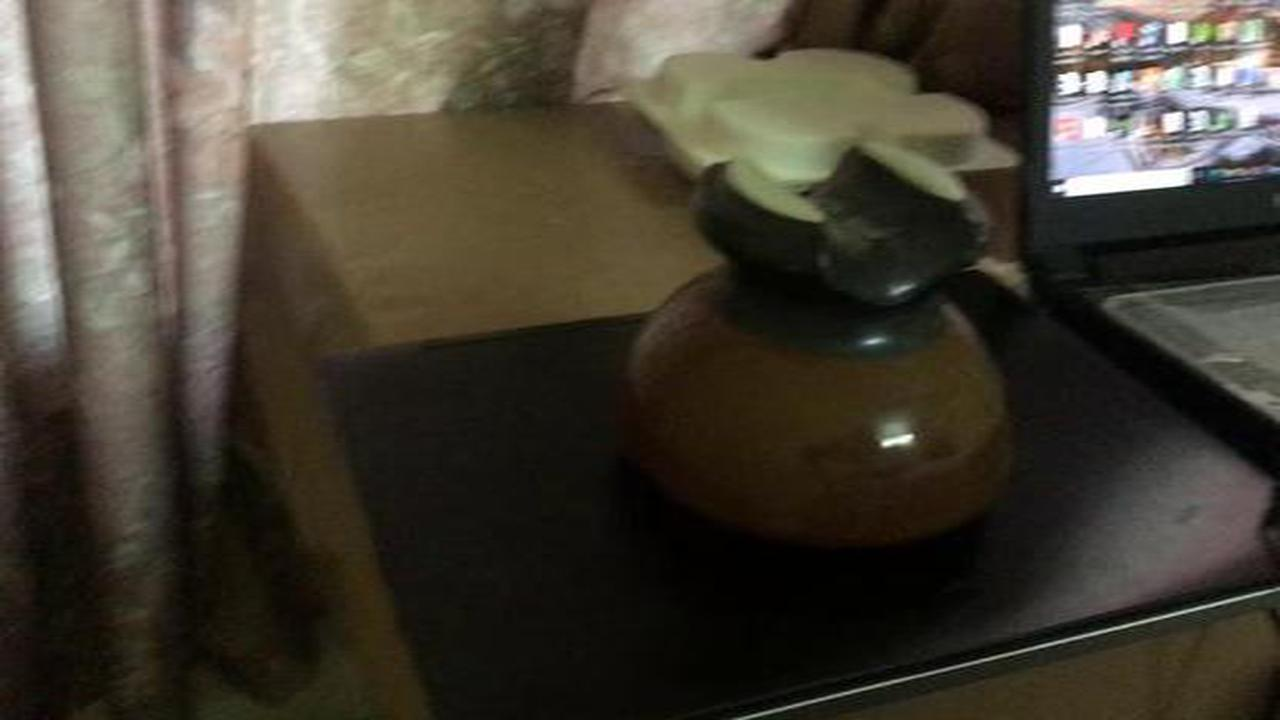insulator_pin: (601, 130, 1047, 563)
